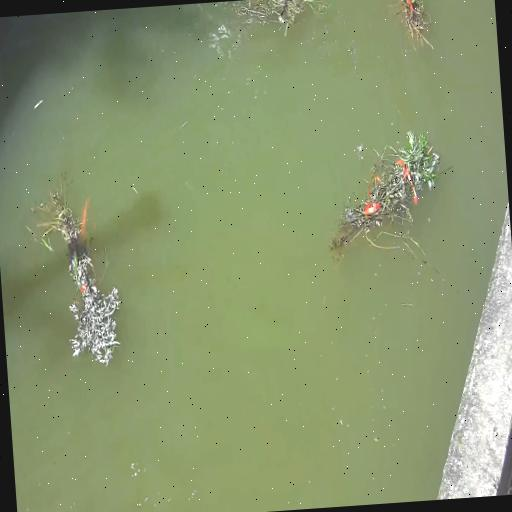twig: (24, 171, 126, 369), (323, 123, 453, 271), (26, 172, 84, 253), (236, 0, 323, 40), (391, 0, 434, 53)
